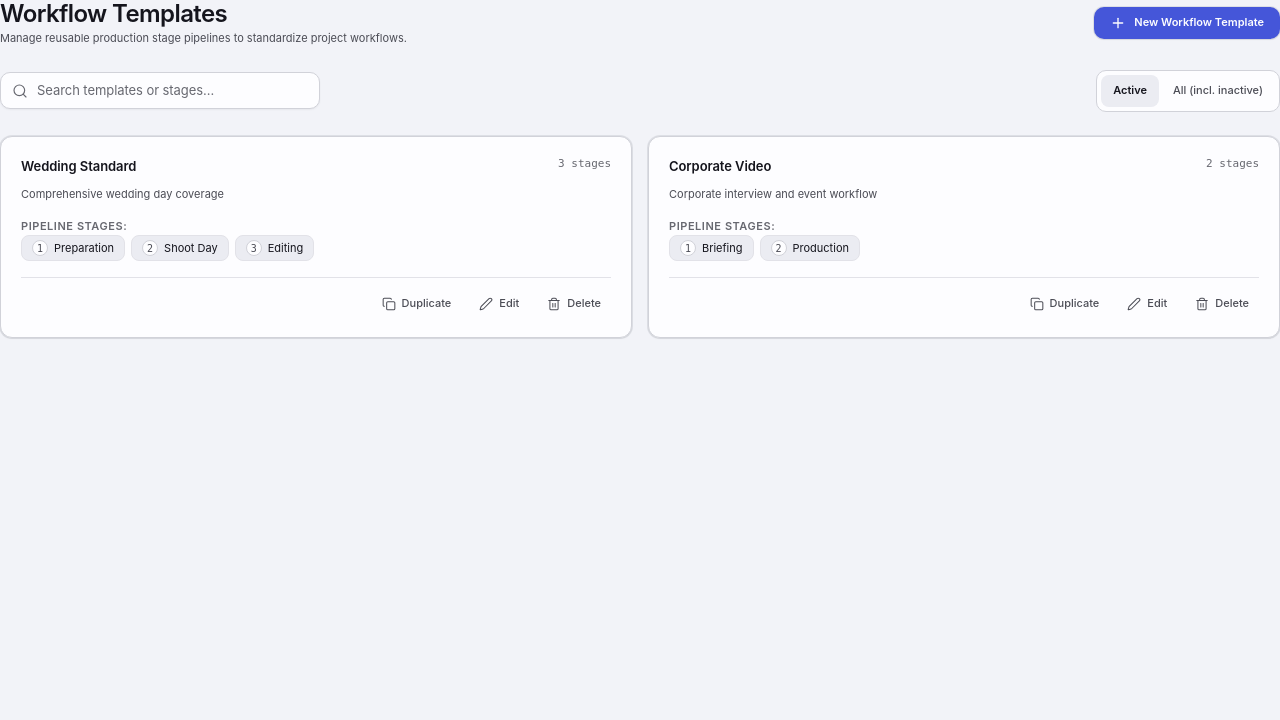
Test: WorkflowTemplatesList (WORKFLOW-REQ-001) › opens delete confirmation modal when clicking Delete
Click the button "Delete" below "Editing".
click(574, 304)  # box [537, 290, 611, 317]
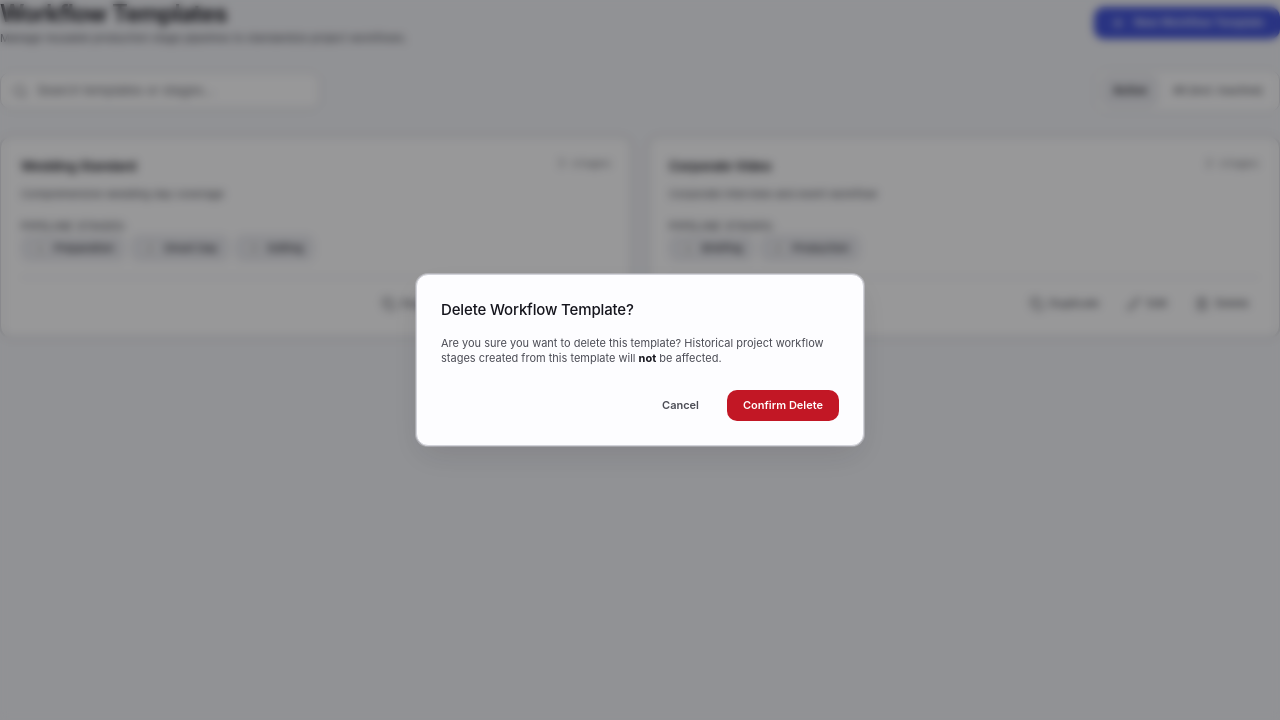
Result: the heading "Delete Workflow Template?" is shown at [441, 300, 634, 319]
Result: the button "Confirm Delete" is shown at [727, 390, 839, 421]
